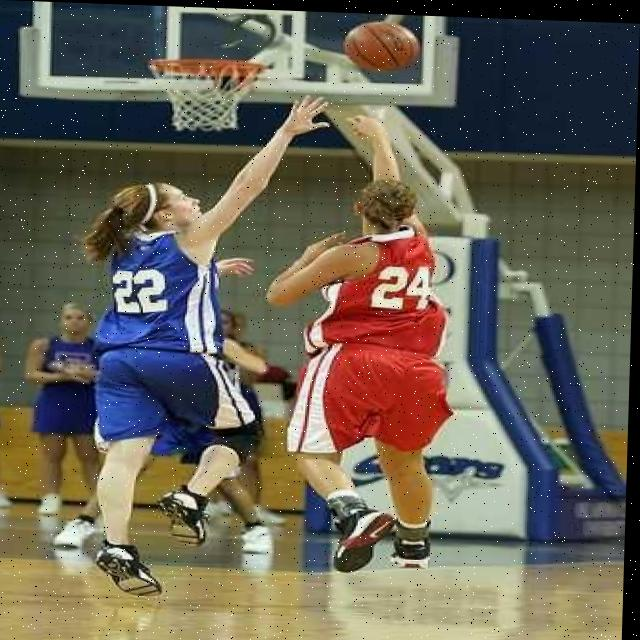basketball: (341, 21, 422, 75)
hoop: (144, 57, 269, 136)
